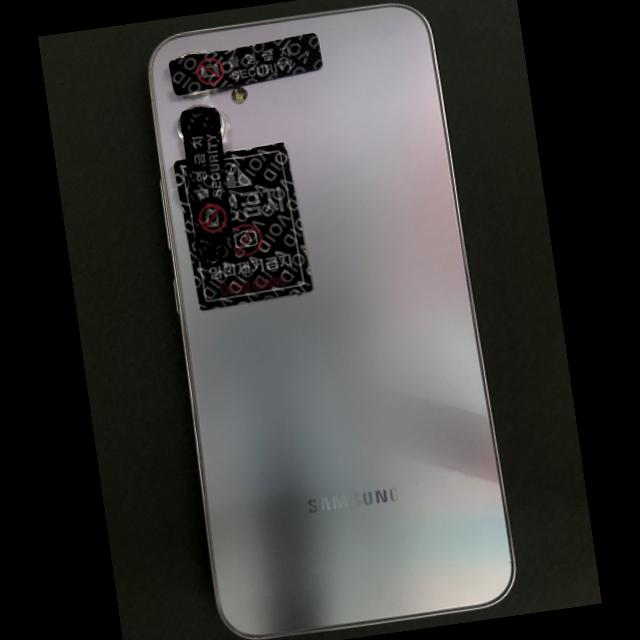lens: (177, 118, 184, 142)
phone: (150, 5, 515, 638)
sticker: (173, 142, 313, 310), (168, 33, 323, 96), (181, 107, 235, 262)
